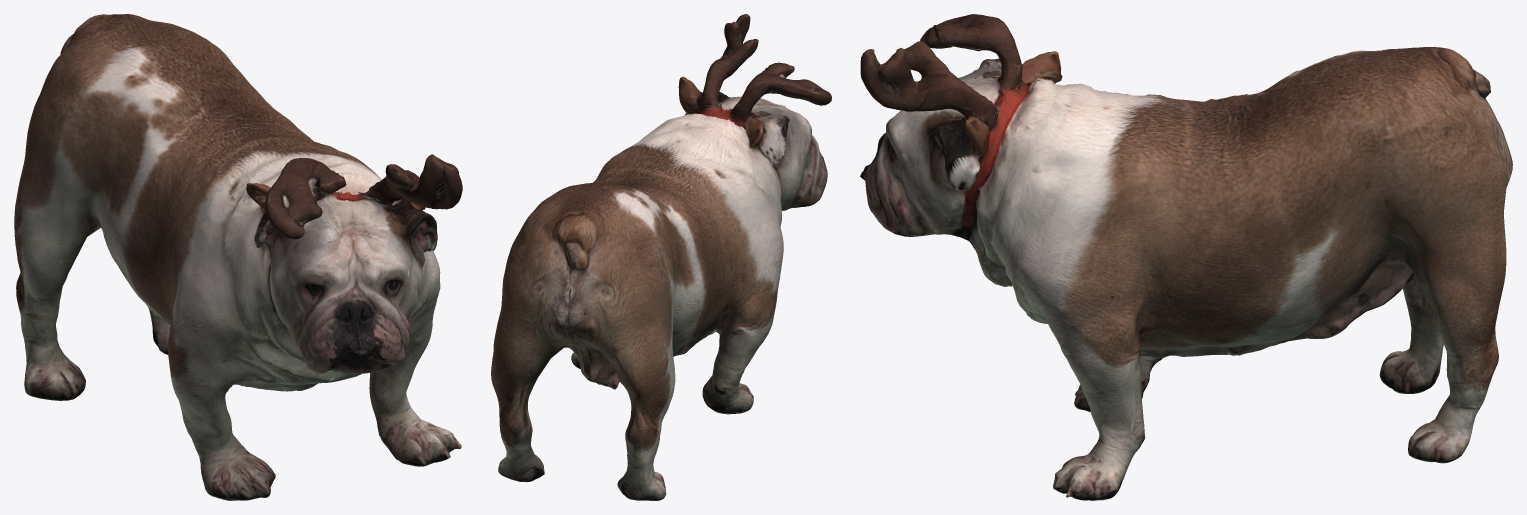
The model's file is EnglishBulldog.glb.
3 views of the same model, side by side, from view 1: azimuth 30°, elevation 25°; view 2: azimuth 150°, elevation 25°; view 3: azimuth 270°, elevation 25° (orthographic). The views are drawn at different scales.
Visible parts, largest first — view 1: english_bulldog; view 2: english_bulldog; view 3: english_bulldog.
Boxes of the visible parts, x1,y1,x2,y2 form: english_bulldog: [14, 14, 462, 500]; english_bulldog: [491, 14, 831, 500]; english_bulldog: [860, 14, 1512, 500].
Size of the model in its own units: 0.3971 by 0.5351 by 0.7854.
Materials: 1 (1 with a texture image).
